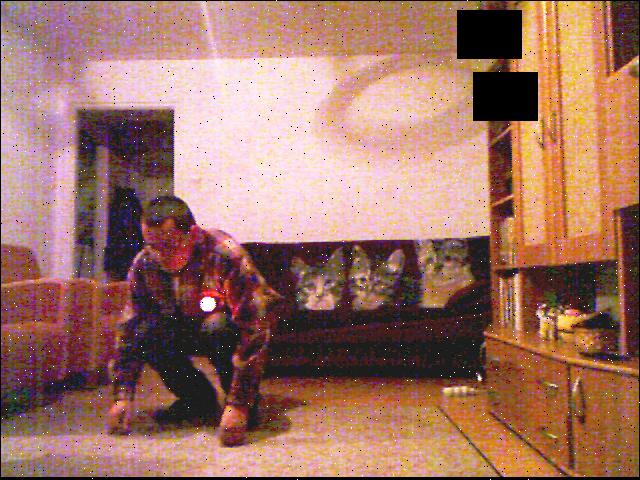sitting: (101, 188, 292, 450)
